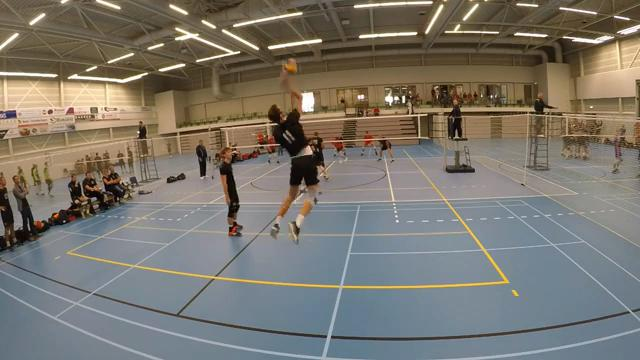battuta: (266, 65, 318, 245)
